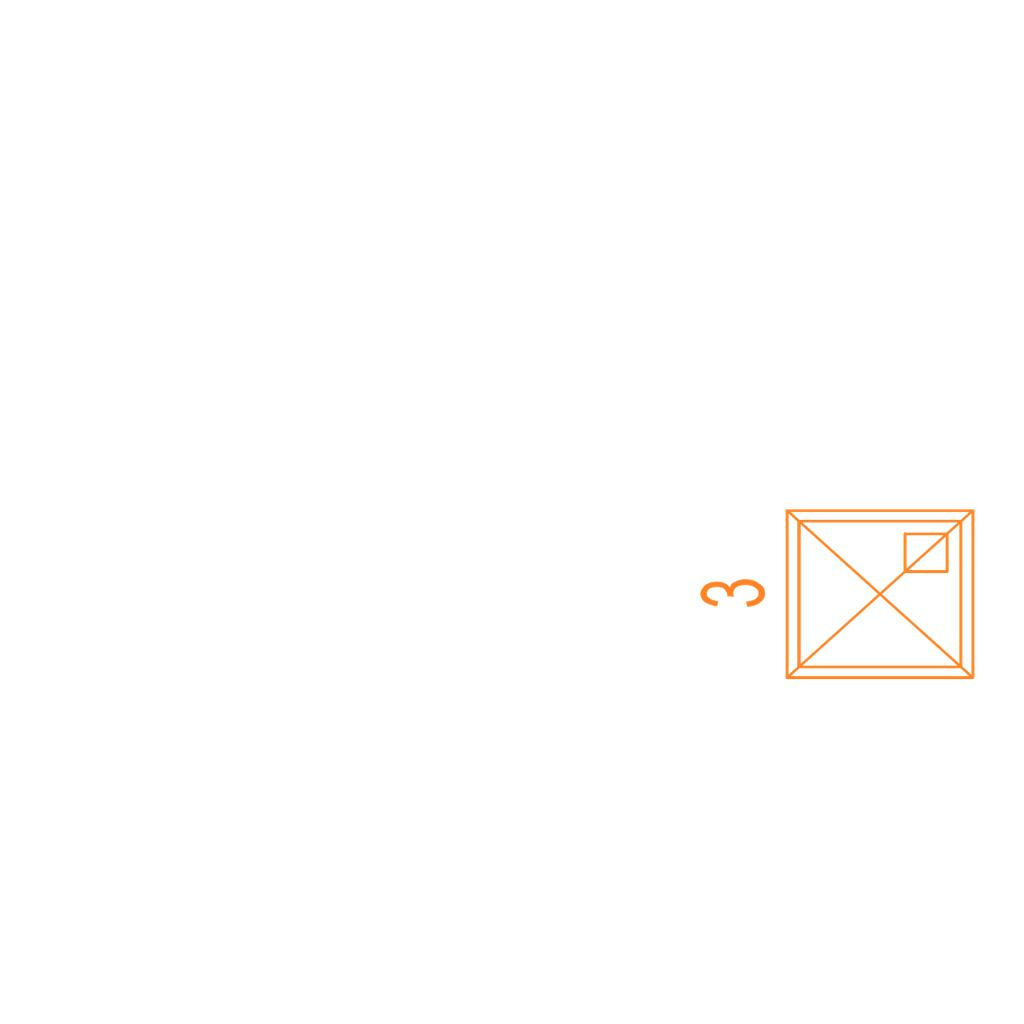Einbaudownlights_LED_Konferenzraeume: (689, 494, 989, 702)
